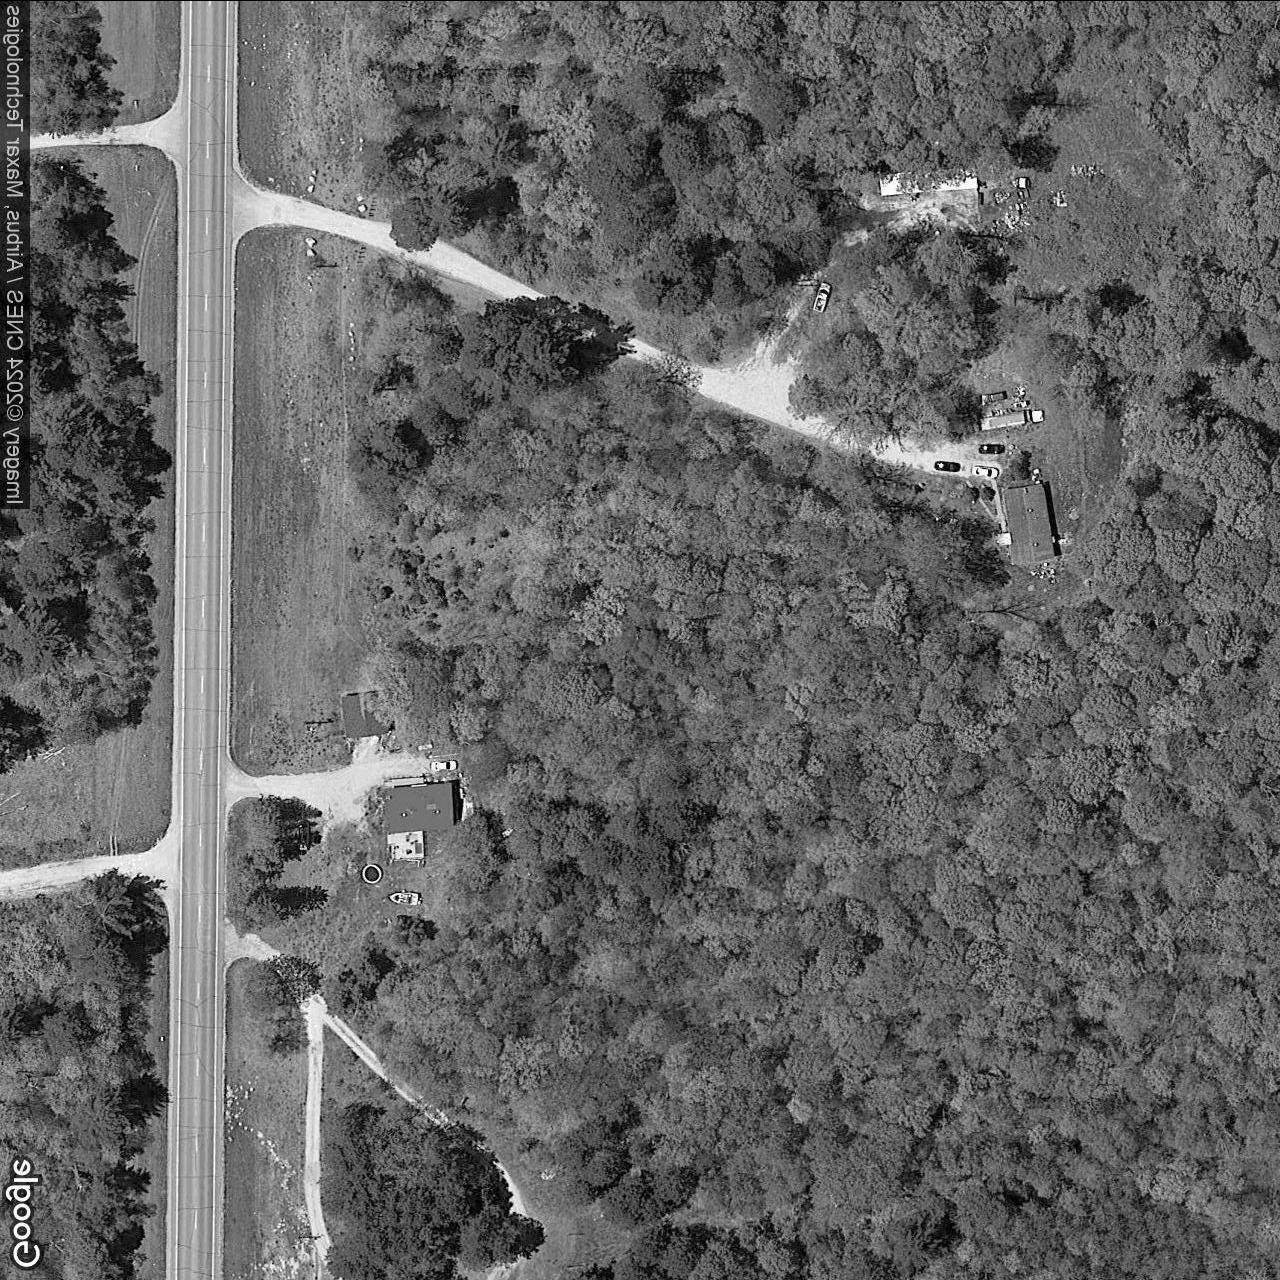Garage: (340, 688, 390, 740)
House: (1000, 482, 1057, 568), (382, 778, 456, 838)
Propane: (415, 738, 436, 754)
Trailer: (878, 165, 979, 198)
